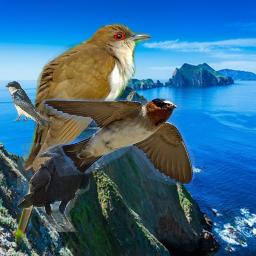Crow: (17, 143, 90, 232)
Cuckoo: (15, 21, 151, 249)
Swallow: (42, 98, 195, 185), (5, 81, 52, 127)
